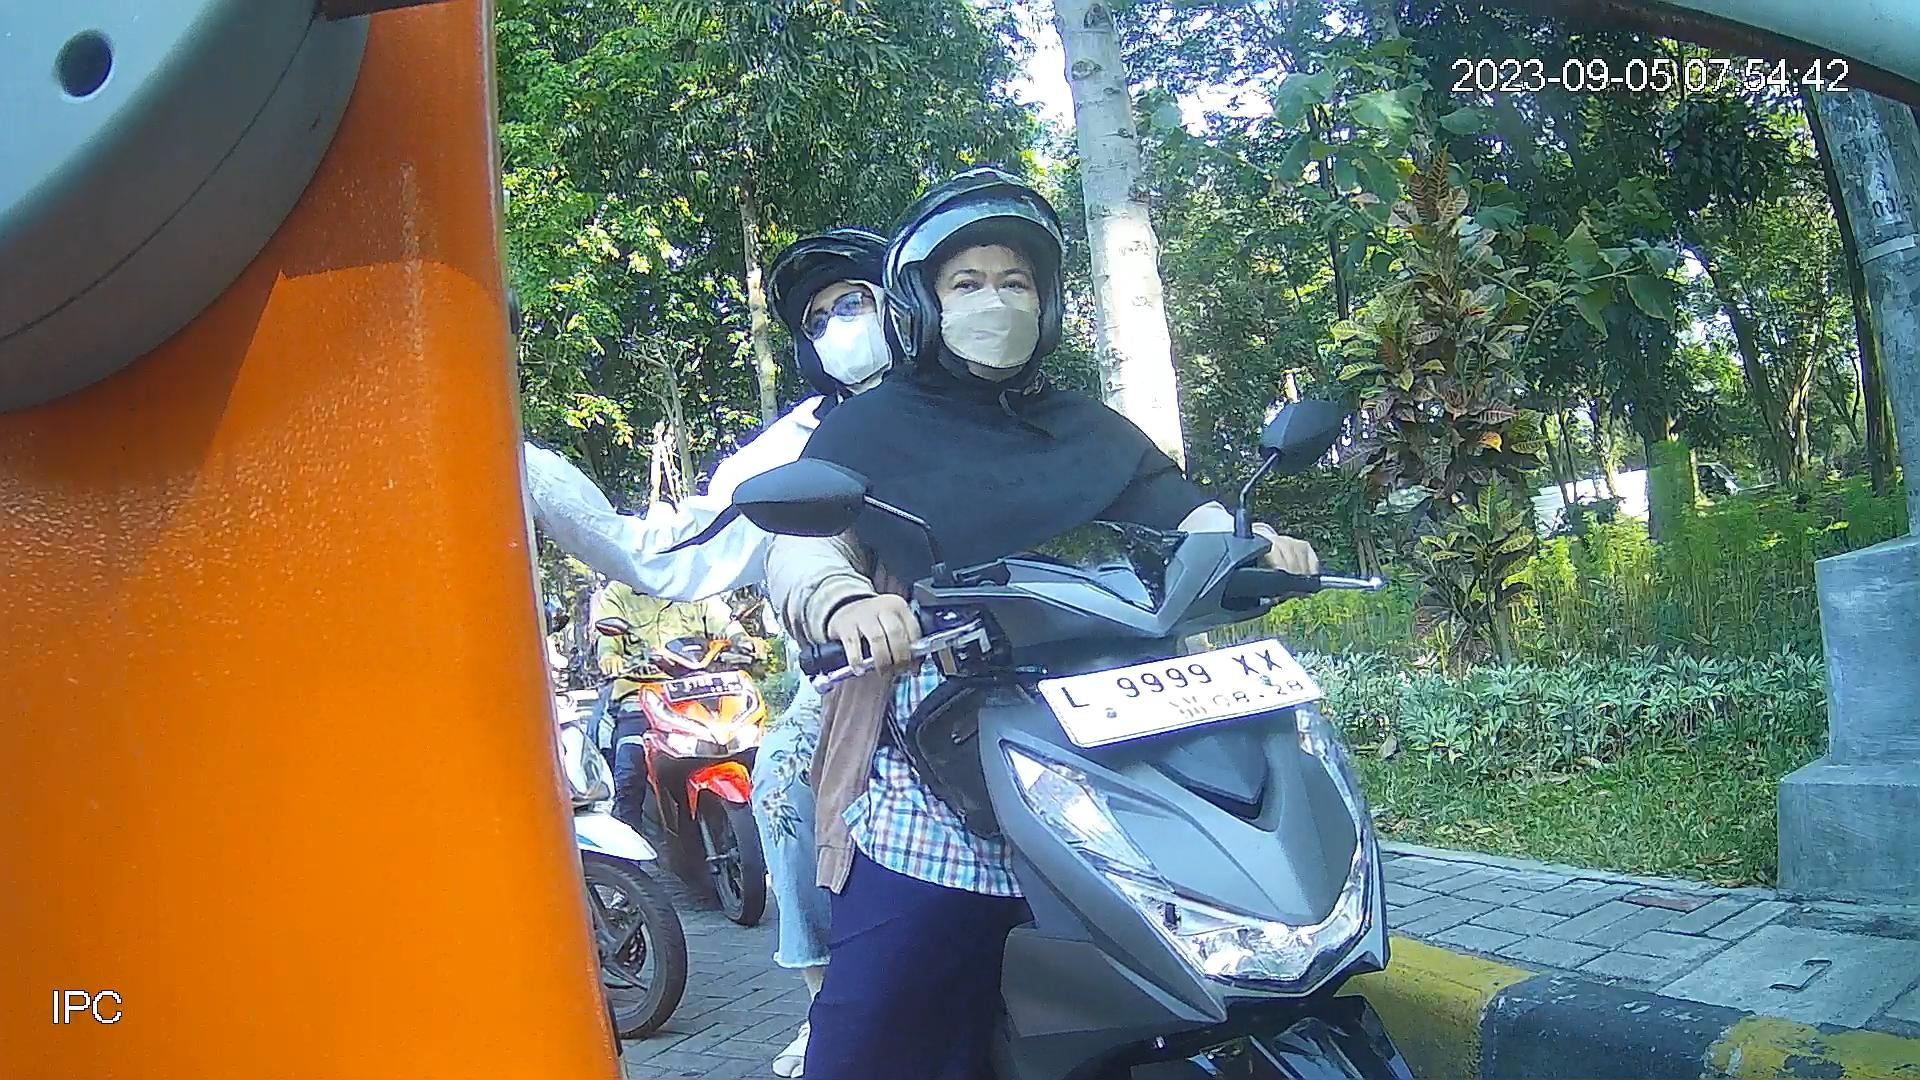plat: (1033, 637, 1329, 748)
